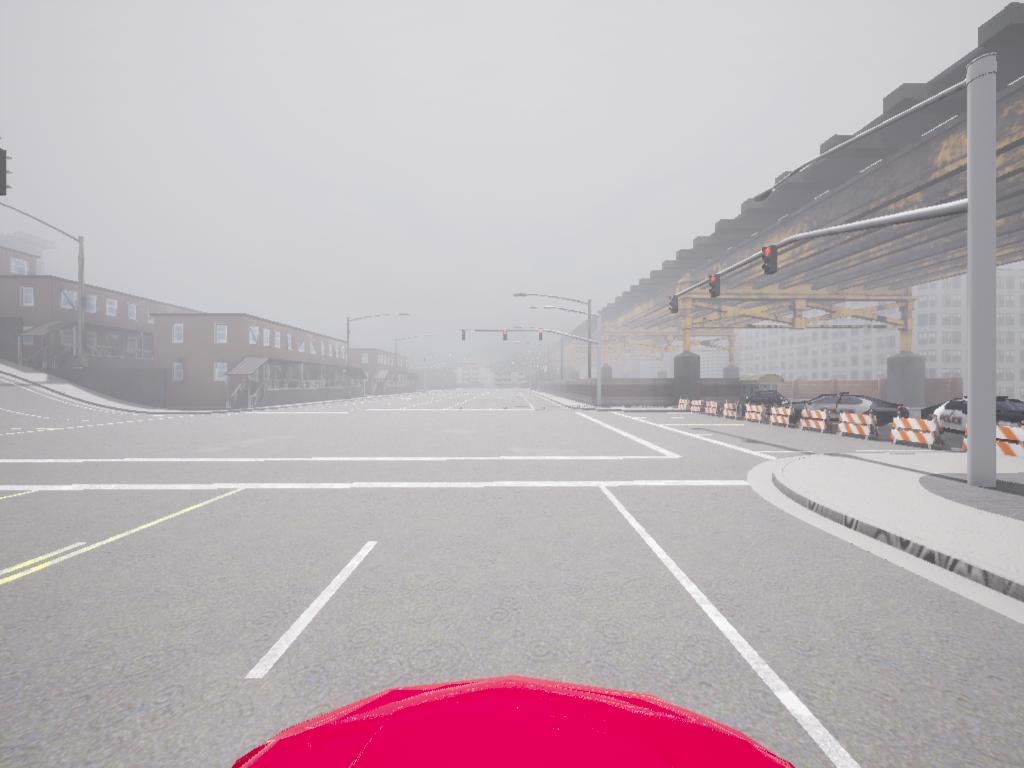traffic_light: (763, 246, 778, 273), (710, 275, 719, 297), (670, 296, 679, 314), (462, 330, 467, 342), (504, 330, 509, 341), (539, 331, 544, 341)
